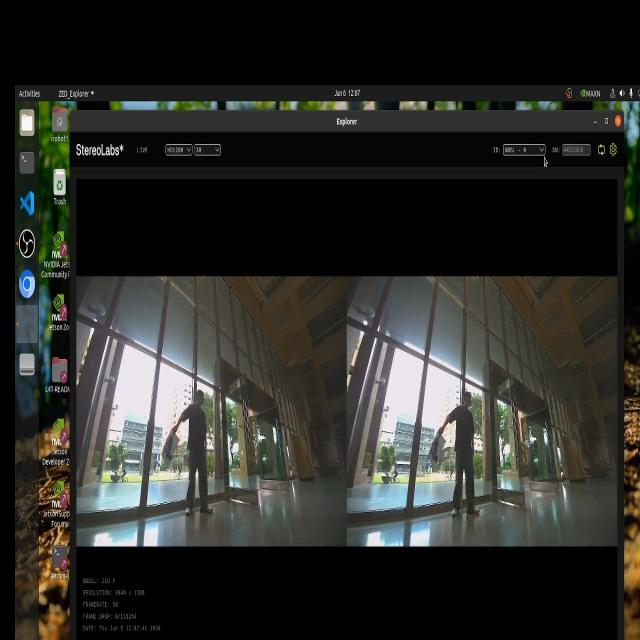blue: (425, 434, 445, 472), (159, 432, 176, 463)
